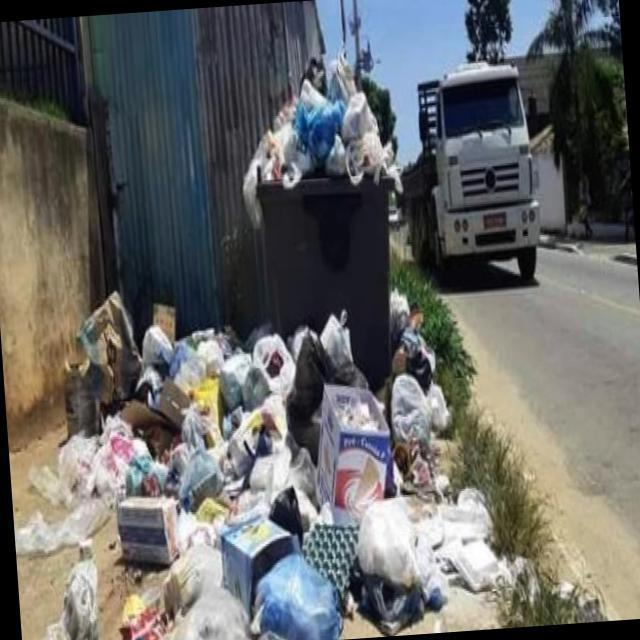garbage: (12, 265, 488, 640), (220, 20, 411, 245)
